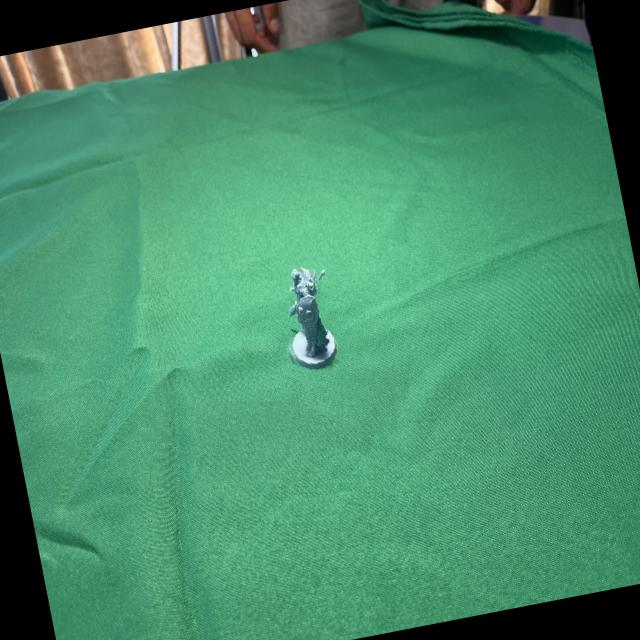isis_follower: (266, 258, 344, 377)
